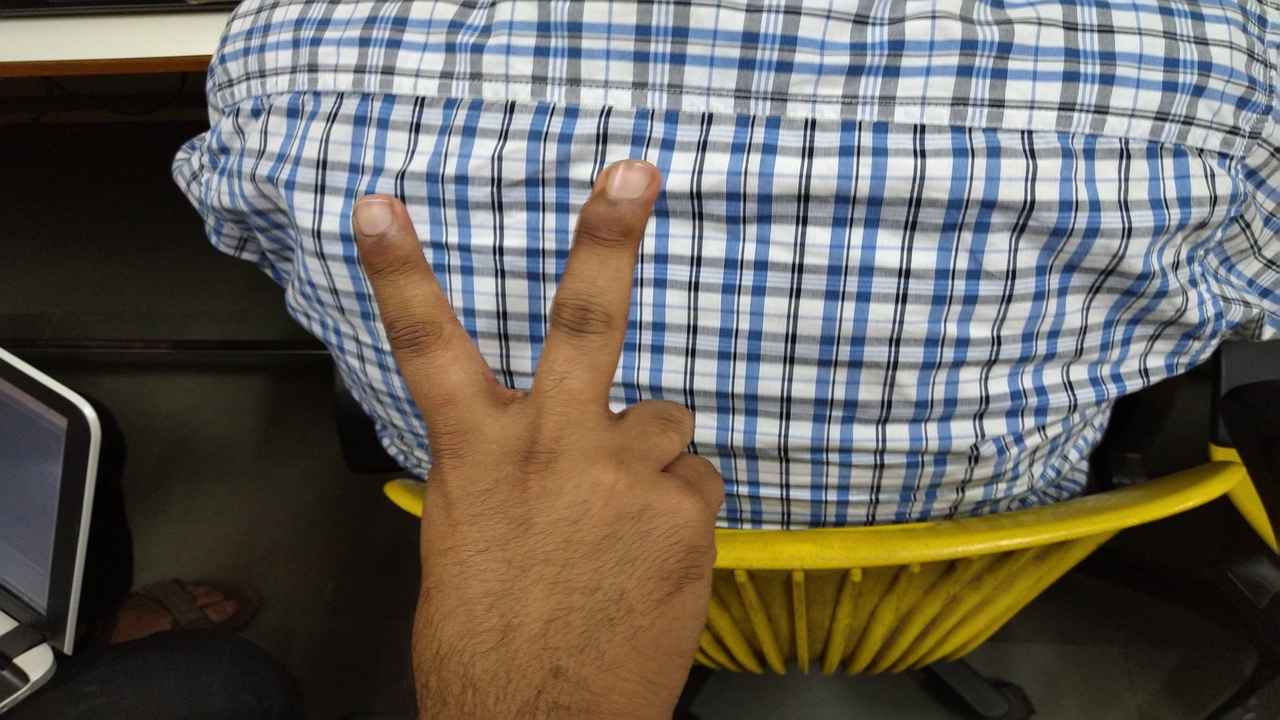fingertip: (582, 152, 668, 226), (340, 184, 410, 252)
